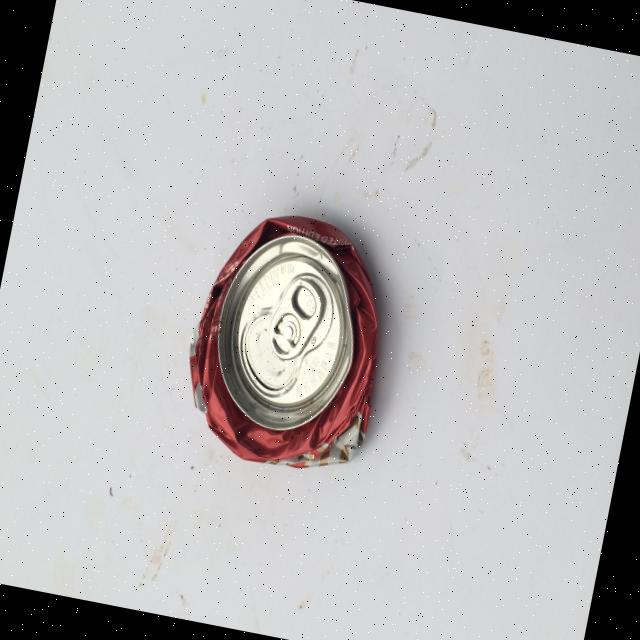metal: (168, 198, 406, 483)
